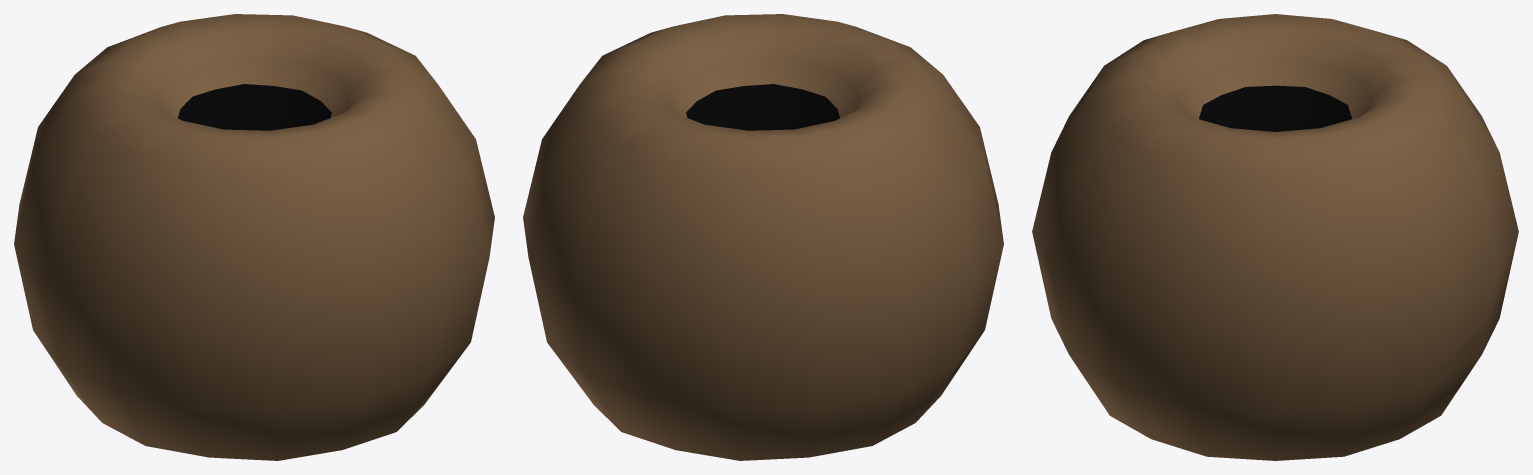
File: burrow_smoothed_feb27.fbx
3 renders of one model, left to right at view 1: azimuth 30°, elevation 25°; view 2: azimuth 150°, elevation 25°; view 3: azimuth 270°, elevation 25°, orthographic.
Visible parts, largest first — view 1: burrow_prototype; view 2: burrow_prototype; view 3: burrow_prototype.
Part boxes in pixels (box(x1,y1,x2,y2)): burrow_prototype: box(14, 14, 494, 460); burrow_prototype: box(523, 14, 1003, 460); burrow_prototype: box(1032, 14, 1518, 460).
Size of the model in its own units: 2.43 by 1.83 by 2.43.
